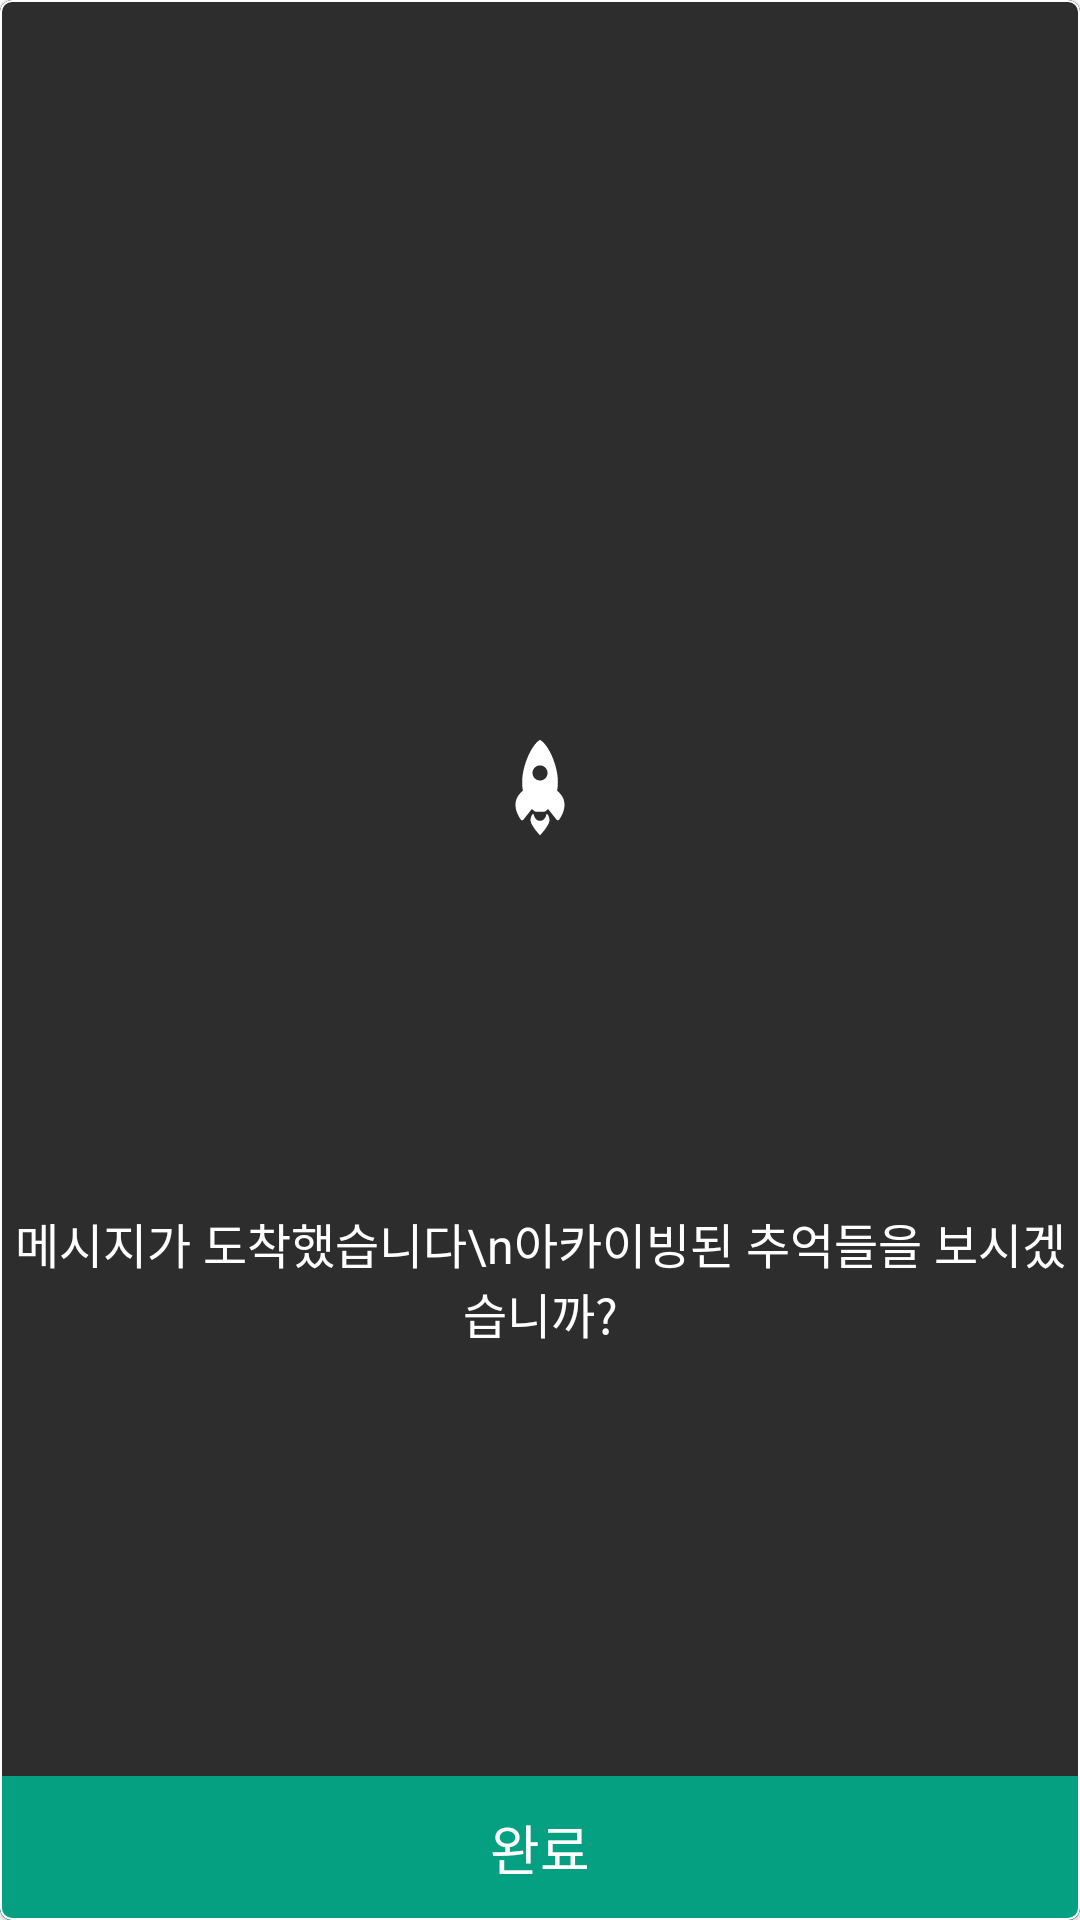

Icon click points for this 1080w x 1920h phone screenshot, format (x=x, y=y):
rocket: (x=540, y=787)
